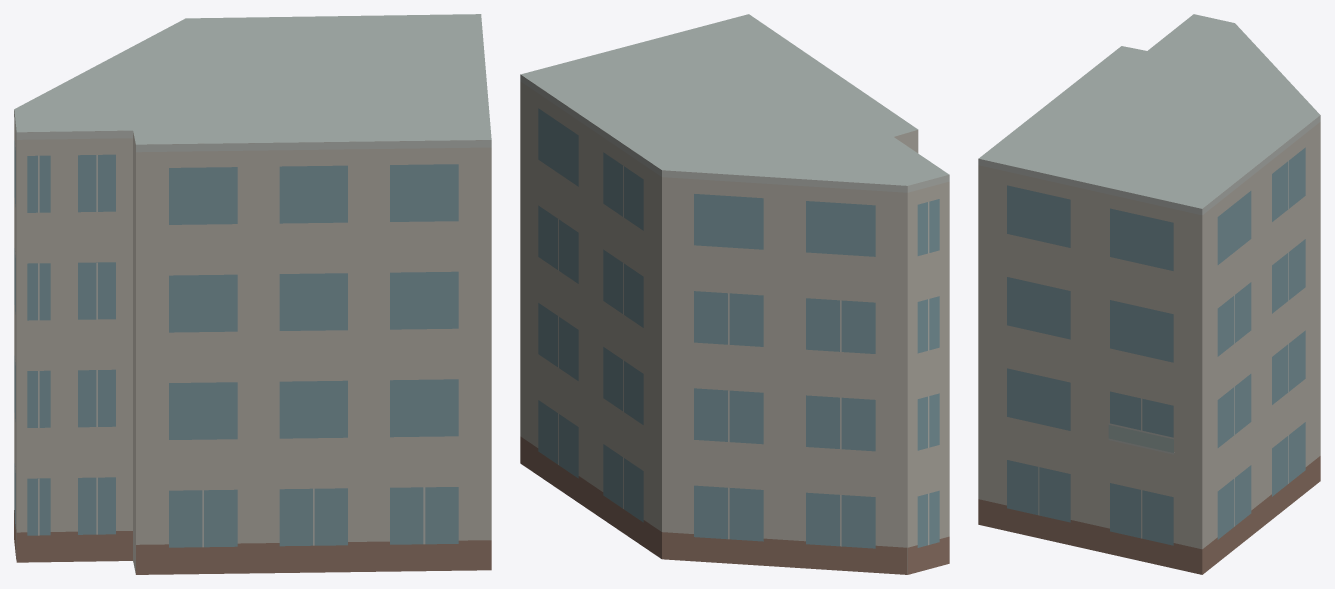
File: survey-upis-32750519.glb
The picture shows the model from 3 angles, left to right: view 1: azimuth 30°, elevation 25°; view 2: azimuth 150°, elevation 25°; view 3: azimuth 270°, elevation 25°; orthographic projection. The views are drawn at different scales.
Parts seen in each view (by area): view 1: survey-upis-32750519.tmp; view 2: survey-upis-32750519.tmp; view 3: survey-upis-32750519.tmp.
Part boxes in pixels (bbox=[...]): survey-upis-32750519.tmp: bbox=[14, 14, 491, 574]; survey-upis-32750519.tmp: bbox=[520, 14, 949, 574]; survey-upis-32750519.tmp: bbox=[978, 14, 1320, 574].
Size of the model in its own units: 15.71 by 13.75 by 11.66.
